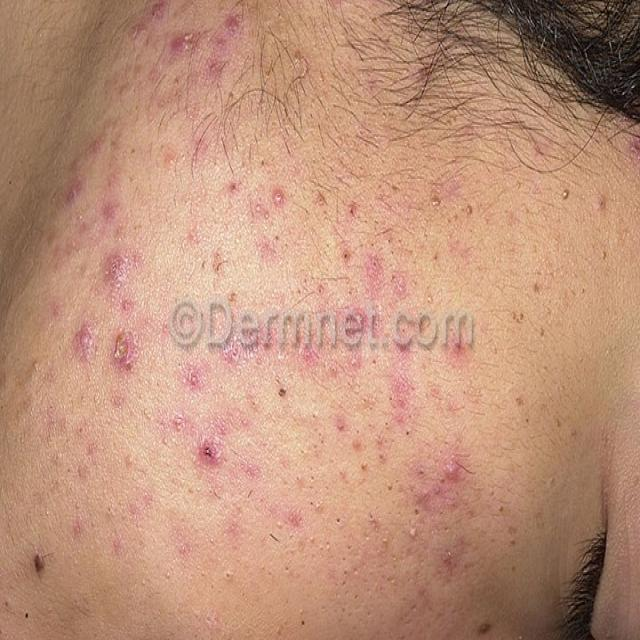acne: (60, 301, 146, 389), (407, 458, 493, 546), (166, 30, 240, 93), (94, 234, 142, 300), (168, 419, 228, 468), (377, 368, 419, 424), (256, 176, 294, 226)
